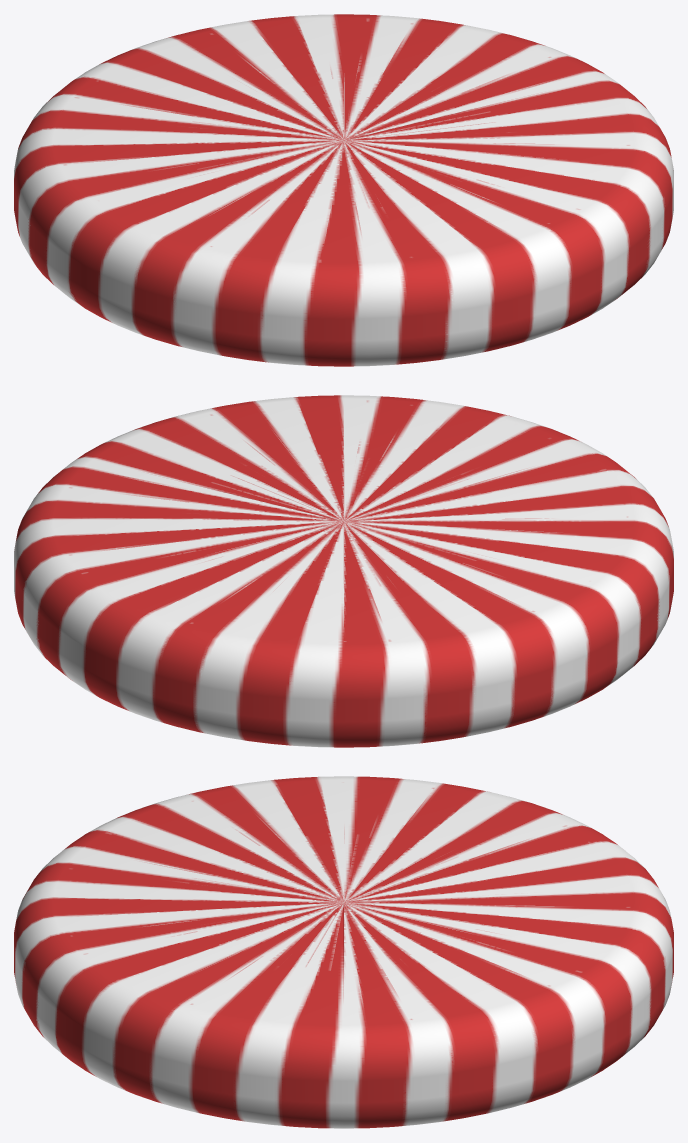
Rendered from mint candy.fbx.
3 views of the same model, one above another, from view 1: azimuth 30°, elevation 25°; view 2: azimuth 150°, elevation 25°; view 3: azimuth 270°, elevation 25° (orthographic).
Visible parts, largest first — view 1: Cylinder_1; view 2: Cylinder_1; view 3: Cylinder_1.
Boxes of the visible parts, <box> form: Cylinder_1: <box>14,14,673,366</box>; Cylinder_1: <box>14,395,673,747</box>; Cylinder_1: <box>14,776,673,1128</box>.
Bounding box in the file's own units: 100 × 16.68 × 99.92.
Materials: 1 (1 with a texture image).
